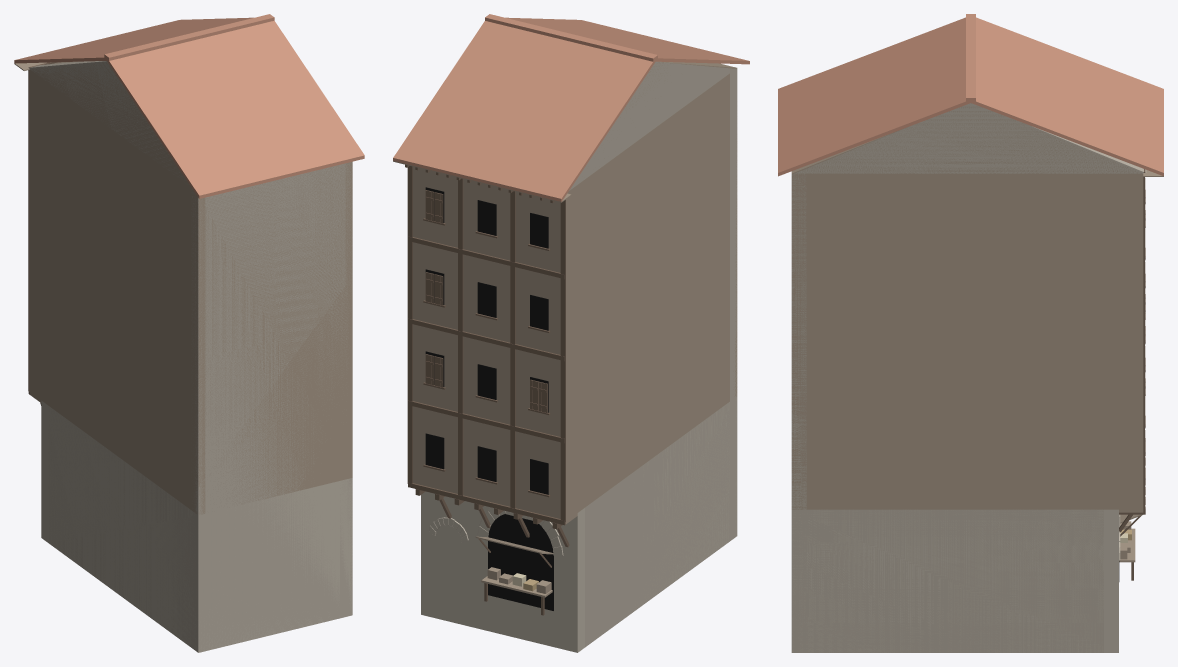
File: casa-68-4-legno.glb
3 renders of one model, left to right at view 1: azimuth 30°, elevation 25°; view 2: azimuth 150°, elevation 25°; view 3: azimuth 270°, elevation 25°, orthographic. The views are drawn at different scales.
Visible parts, largest first — view 1: vicino, lontano; view 2: vicino, lontano, aperta; view 3: vicino, lontano, aperta.
Boxes of the visible parts, x1,y1,x2,y2 form: vicino: (14, 14, 364, 652); lontano: (14, 58, 364, 652); vicino: (393, 14, 749, 652); lontano: (393, 58, 749, 652); aperta: (475, 536, 553, 615); vicino: (778, 14, 1163, 652); lontano: (778, 100, 1163, 652); aperta: (1119, 514, 1142, 580).
Bounding box in the file's own units: 7.3 × 22.57 × 14.15.
